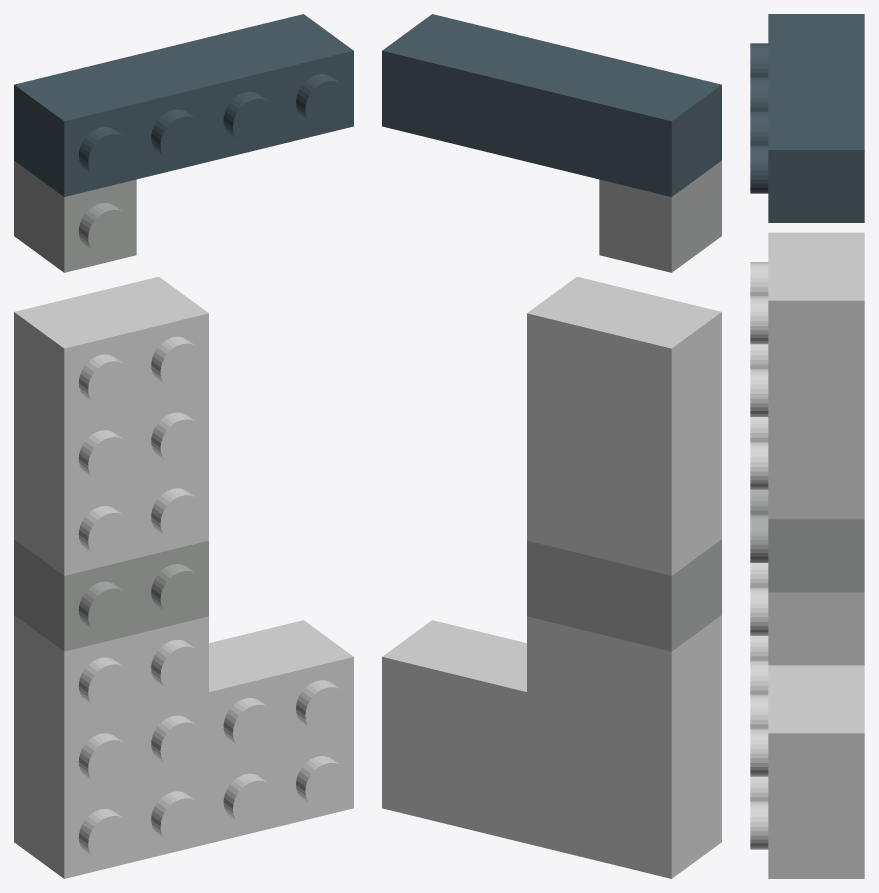
File: current.glb
3 views of the same model, side by side, from view 1: azimuth 30°, elevation 25°; view 2: azimuth 150°, elevation 25°; view 3: azimuth 270°, elevation 25° (orthographic). The views are drawn at different scales.
Parts seen in each view (by area): view 1: world; view 2: world; view 3: world.
Part boxes in pixels (x1,y1,x2,y2): world: (14,14,353,878); world: (382,14,721,878); world: (750,14,864,878).
Size of the model in its own units: 32 by 80 by 11.4.
